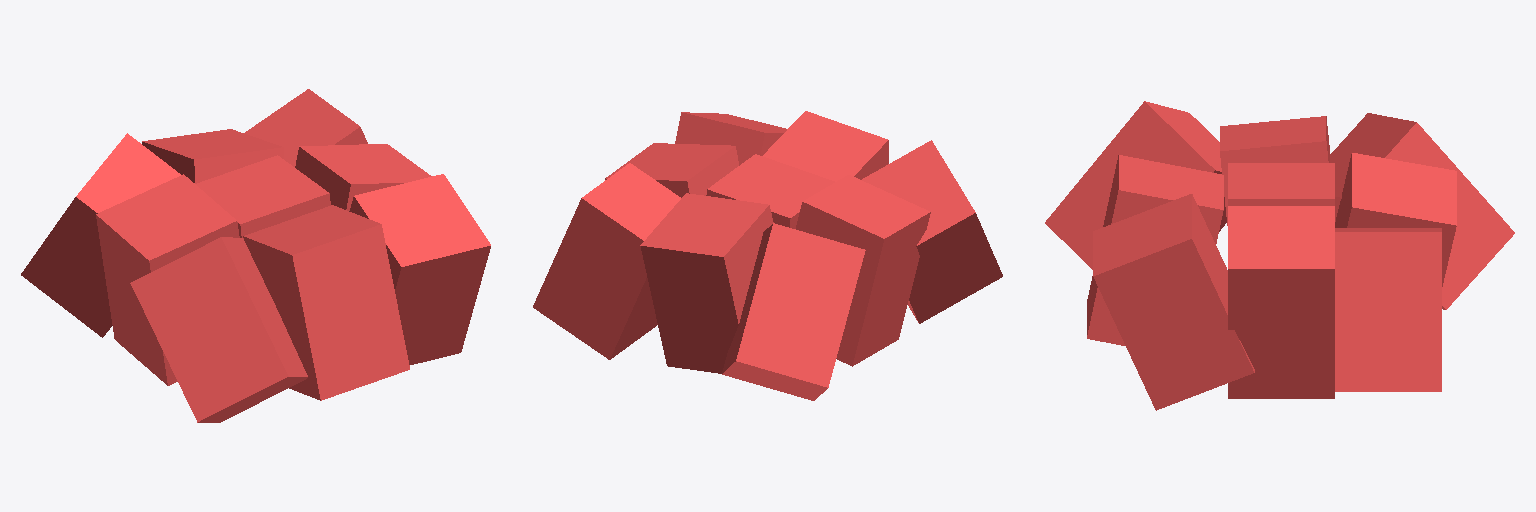
URDF robot description (environment):
<?xml version="1.0"?>
<robot name="environment">
  <material name="White">
    <color rgba="0.9 0.9 0.9 1"/>
  </material>
  <material name="Blue">
    <color rgba="0 0 1 1"/>
  </material>
  <material name="Red">
    <color rgba="1 0.4 0.4 1"/>
  </material>
  <material name="Green">
    <color rgba="0 1 0 1"/>
  </material>
  <material name="Gray">
    <color rgba="0.6 0.6 0.6 1"/>
  </material>
  <material name="Black"><!-- or brown-->
    <color rgba="0.2 0.1 0.1 1"/>
  </material>

  <link name="obstacle_base">
    <inertial>
      <origin xyz="0 0 0" rpy="0 0 0"/>
      <mass value="1.0" />
      <inertia  ixx="1.0" ixy="0.0"  ixz="0.0"  iyy="1.0"  iyz="0.0"  izz="1.0" />
    </inertial>
    <visual>
      <origin xyz="0 0 -0.1" rpy="0 0 0"/>
      <geometry>
        <box size="0.1 0.1 0.1"/>
      </geometry>
      <material name="White"/>
    </visual>
  </link>

  <joint name="j_one" type="fixed">
    <parent link="obstacle_base"/>
    <child link="l_one"/>
    <origin rpy="0 -0.1 0" xyz="0 0 0"/>
  </joint>

  <link name="l_one">
    <inertial>
      <origin xyz="0 0 0" /> 
      <mass value="1.0" />
      <inertia  ixx="1.0" ixy="0.0"  ixz="0.0"  iyy="1.0"  iyz="0.0"  izz="1.0" />
    </inertial>
    <visual>
      <origin xyz="0 0 0"/>
      <geometry>
        <box size="4 4 6" /> 
      </geometry>
      <material name="Red"/>
    </visual>
    <collision>
      <origin xyz="0 0 0"/>
      <geometry>
        <box size="4 4 6" />
      </geometry>
    </collision>
  </link>
  
  <joint name="j_two" type="fixed">
    <parent link="obstacle_base"/>
    <child link="l_two"/>
    <origin rpy="0.1 -0.2 0" xyz="-4 0 0"/>
  </joint>

  <link name="l_two">
    <inertial>
      <origin xyz="0 0 0" /> 
      <mass value="1.0" />
      <inertia  ixx="1.0" ixy="0.0"  ixz="0.0"  iyy="1.0"  iyz="0.0"  izz="1.0" />
    </inertial>
    <visual>
      <origin xyz="0 0 0"/>
      <geometry>
        <box size="4 4 6" />
      </geometry>
      <material name="Red"/>
    </visual>
    <collision>
      <origin xyz="0 0 0"/>
      <geometry>
        <box size="4 4 6" />
      </geometry>
    </collision>
  </link>
  
  <joint name="j_three" type="fixed">
    <parent link="obstacle_base"/>
    <child link="l_three"/>
    <origin rpy="0 0.2 0" xyz="4 0 0"/>
  </joint>

  <link name="l_three">
    <inertial>
      <origin xyz="0 0 0" /> 
      <mass value="1.0" />
      <inertia  ixx="1.0" ixy="0.0"  ixz="0.0"  iyy="1.0"  iyz="0.0"  izz="1.0" />
    </inertial>
    <visual>
      <origin xyz="0 0 0"/>
      <geometry>
        <box size="4 4 6" />
      </geometry>
      <material name="Red"/>
    </visual>
    <collision>
      <origin xyz="0 0 0"/>
      <geometry>
        <box size="4 4 6" />
      </geometry>
    </collision>
  </link>
  
  <joint name="j_four" type="fixed">
    <parent link="obstacle_base"/>
    <child link="l_four"/>
    <origin rpy="-0.2 -0.1 0" xyz="0 -4.7 0"/>
  </joint>

  <link name="l_four">
    <inertial>
      <origin xyz="0 0 0" /> 
      <mass value="1.0" />
      <inertia  ixx="1.0" ixy="0.0"  ixz="0.0"  iyy="1.0"  iyz="0.0"  izz="1.0" />
    </inertial>
    <visual>
      <origin xyz="0 0 0"/>
      <geometry>
        <box size="4 4 6" />
      </geometry>
      <material name="Red"/>
    </visual>
    <collision>
      <origin xyz="0 0 0"/>
      <geometry>
        <box size="4 4 6" />
      </geometry>
    </collision>
  </link>
  
  <joint name="j_fourfive" type="fixed">
    <parent link="obstacle_base"/>
    <child link="l_fourfive"/>
    <origin rpy="-0.2 0.1 0" xyz="0 4 0"/>
  </joint>

  <link name="l_fourfive">
    <inertial>
      <origin xyz="0 0 0" /> 
      <mass value="1.0" />
      <inertia  ixx="1.0" ixy="0.0"  ixz="0.0"  iyy="1.0"  iyz="0.0"  izz="1.0" />
    </inertial>
    <visual>
      <origin xyz="0 0 0"/>
      <geometry>
        <box size="4 4 6" />
      </geometry>
      <material name="Red"/>
    </visual>
    <collision>
      <origin xyz="0 0 0"/>
      <geometry>
        <box size="4 4 6" /> 
      </geometry>
    </collision>
  </link>
  
    <joint name="j_five" type="fixed">
    <parent link="obstacle_base"/>
    <child link="l_five"/>
    <origin rpy="0 -0.4 0" xyz="4.7 4 0"/>
  </joint>

  <link name="l_five">
    <inertial>
      <origin xyz="0 0 0" /> 
      <mass value="1.0" />
      <inertia  ixx="1.0" ixy="0.0"  ixz="0.0"  iyy="1.0"  iyz="0.0"  izz="1.0" />
    </inertial>
    <visual>
      <origin xyz="0 0 0"/>
      <geometry>
        <box size="4 4 6" />
      </geometry>
      <material name="Red"/>
    </visual>
    <collision>
      <origin xyz="0 0 0"/>
      <geometry>
        <box size="4 4 6" />
      </geometry>
    </collision>
  </link>
  
  <joint name="j_six" type="fixed">
    <parent link="obstacle_base"/>
    <child link="l_six"/>
    <origin rpy="0.4 0 0" xyz="4 -4 0"/> <!-- pi/4 -->
  </joint>

  <link name="l_six">
    <inertial>
      <origin xyz="0 0 0" /> 
      <mass value="1.0" />
      <inertia  ixx="1.0" ixy="0.0"  ixz="0.0"  iyy="1.0"  iyz="0.0"  izz="1.0" />
    </inertial>
    <visual>
      <origin xyz="0 0 0"/>
      <geometry>
        <box size="4 4 6" />
      </geometry>
      <material name="Red"/>
    </visual>
    <collision>
      <origin xyz="0 0 0"/>
      <geometry>
        <box size="4 4 6" />
      </geometry>
    </collision>
  </link>
  
  <joint name="j_seven" type="fixed">
    <parent link="obstacle_base"/>
    <child link="l_seven"/>
    <origin rpy="0.6 -0.3 0.5" xyz="-4 4.7 0"/>
  </joint>

  <link name="l_seven">
    <inertial>
      <origin xyz="0 0 0" /> 
      <mass value="1.0" />
      <inertia  ixx="1.0" ixy="0.0"  ixz="0.0"  iyy="1.0"  iyz="0.0"  izz="1.0" />
    </inertial>
    <visual>
      <origin xyz="0 0 0"/>
      <geometry>
        <box size="4 4 6" />
      </geometry>
      <material name="Red"/>
    </visual>
    <collision>
      <origin xyz="0 0 0"/>
      <geometry>
        <box size="4 4 6" />
      </geometry>
    </collision>
  </link>
  
  <joint name="j_eight" type="fixed">
    <parent link="obstacle_base"/>
    <child link="l_eight"/>
    <origin rpy="-0.5 -0.5 -0.5" xyz="-4.8 -4.8 0"/>
  </joint>

  <link name="l_eight">
    <inertial>
      <origin xyz="0 0 0" /> 
      <mass value="1.0" />
      <inertia  ixx="1.0" ixy="0.0"  ixz="0.0"  iyy="1.0"  iyz="0.0"  izz="1.0" />
    </inertial>
    <visual>
      <origin xyz="0 0 0"/>
      <geometry>
        <box size="4 4 6" />
      </geometry>
      <material name="Red"/>
    </visual>
    <collision>
      <origin xyz="0 0 0"/>
      <geometry>
        <box size="4 4 6" />
      </geometry>
    </collision>
  </link>
  
</robot>

--- Facts derived from the render (not from the file) ---
3 views of the same robot in one strip: view 1: azimuth 30°, elevation 25°; view 2: azimuth 150°, elevation 25°; view 3: azimuth 270°, elevation 25° (orthographic).
Model environment with 10 links and 9 joints (9 fixed), rooted at obstacle_base, posed all joints at 0.
Visible links, largest first — view 1: l_four, l_eight, l_six, l_two, l_seven, l_one, l_three, l_fourfive, l_five; view 2: l_seven, l_fourfive, l_five, l_two, l_eight, l_four, l_one, l_three, l_six; view 3: l_six, l_three, l_five, l_eight, l_seven, l_fourfive, l_four, l_two, l_one.
Link boxes in pixels (box(x1,y1,x2,y2)): l_four: box(243, 205, 409, 400); l_eight: box(130, 237, 307, 422); l_six: box(349, 174, 490, 364); l_two: box(96, 174, 239, 385); l_seven: box(21, 133, 180, 337); l_one: box(196, 155, 330, 238); l_three: box(295, 144, 431, 210); l_fourfive: box(142, 129, 283, 183); l_five: box(244, 89, 367, 166); l_seven: box(722, 223, 865, 400); l_fourfive: box(640, 193, 773, 373); l_five: box(533, 163, 680, 359); l_two: box(796, 175, 930, 366); l_eight: box(862, 140, 1002, 323); l_four: box(763, 111, 888, 181); l_one: box(706, 154, 834, 228); l_three: box(605, 143, 738, 197); l_six: box(675, 112, 786, 165); l_six: box(1093, 194, 1254, 410); l_three: box(1228, 206, 1334, 398); l_five: box(1335, 228, 1441, 391); l_eight: box(1045, 101, 1226, 269); l_seven: box(1330, 113, 1514, 309); l_fourfive: box(1335, 153, 1456, 286); l_four: box(1087, 155, 1223, 345); l_two: box(1220, 116, 1335, 225); l_one: box(1228, 163, 1334, 205).
Size in the robot's own frame: 15.71 by 17.57 by 8.22 metres.
Geometry: primitives only (box / cylinder / sphere), no mesh files.
